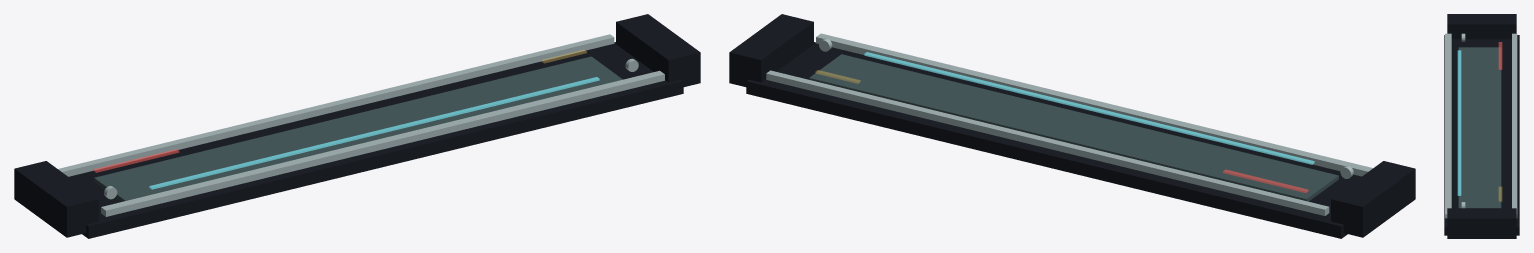
The model's file is hp_door_threshold_service_elevator.glb.
The picture shows the model from 3 angles, left to right: view 1: azimuth 30°, elevation 25°; view 2: azimuth 150°, elevation 25°; view 3: azimuth 270°, elevation 25°; orthographic projection. The views are drawn at different scales.
Visible parts, largest first — view 1: service_elevator_threshold_base, service_elevator_threshold_inset_plate, service_elevator_threshold_front_lip, service_elevator_threshold_cyan_floor_line; view 2: service_elevator_threshold_base, service_elevator_threshold_inset_plate, service_elevator_threshold_front_lip, service_elevator_threshold_cyan_floor_line; view 3: service_elevator_threshold_base, service_elevator_threshold_inset_plate, service_elevator_threshold_front_lip, service_elevator_threshold_cyan_floor_line.
Boxes of the visible parts, x1=… form: service_elevator_threshold_base: x1=14, y1=14, x2=700, y2=238; service_elevator_threshold_inset_plate: x1=94, y1=56, x2=622, y2=201; service_elevator_threshold_front_lip: x1=58, y1=34, x2=664, y2=216; service_elevator_threshold_cyan_floor_line: x1=93, y1=50, x2=599, y2=189; service_elevator_threshold_base: x1=729, y1=14, x2=1415, y2=238; service_elevator_threshold_inset_plate: x1=809, y1=54, x2=1338, y2=201; service_elevator_threshold_front_lip: x1=766, y1=33, x2=1372, y2=215; service_elevator_threshold_cyan_floor_line: x1=815, y1=52, x2=1314, y2=192; service_elevator_threshold_base: x1=1444, y1=14, x2=1519, y2=238; service_elevator_threshold_inset_plate: x1=1458, y1=47, x2=1501, y2=208; service_elevator_threshold_front_lip: x1=1445, y1=33, x2=1517, y2=218; service_elevator_threshold_cyan_floor_line: x1=1457, y1=42, x2=1502, y2=201.
Size of the model in its own units: 4.74 by 0.25 by 0.7401.
4 materials, 4 textured.
